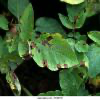Potato leaf early blight: (29, 32, 78, 70), (18, 2, 35, 42), (5, 64, 22, 96), (76, 52, 89, 88), (17, 39, 34, 63), (6, 28, 20, 54)
